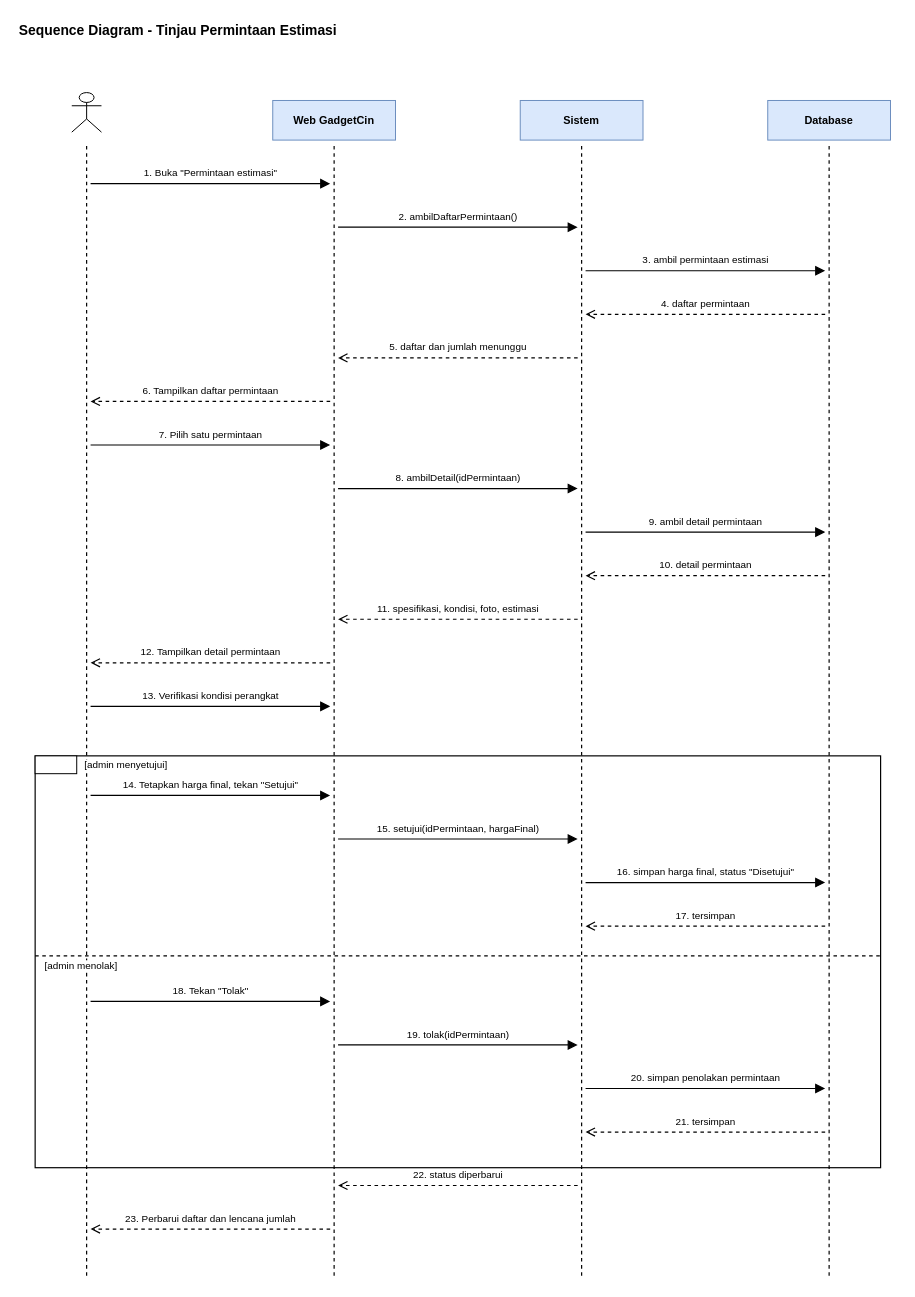
Image size: 915x1297. Some labels were removed from this diagram. The centre of each missing label's shape, as x and y in pixels:
Admin: (86,112)
alt: (55,764)
